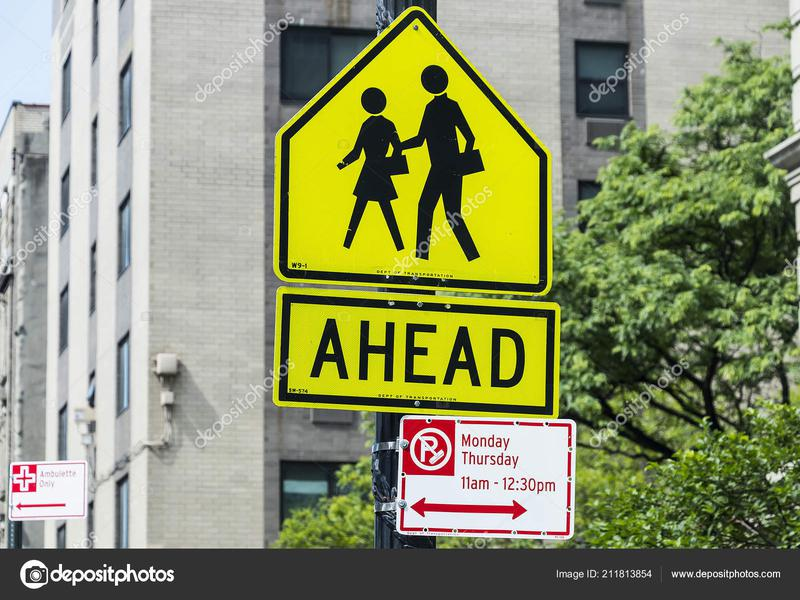slow: (269, 10, 559, 295)
